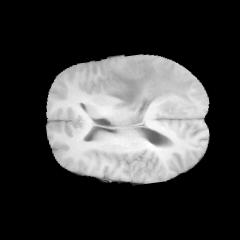glioma: (107, 60, 198, 112)
